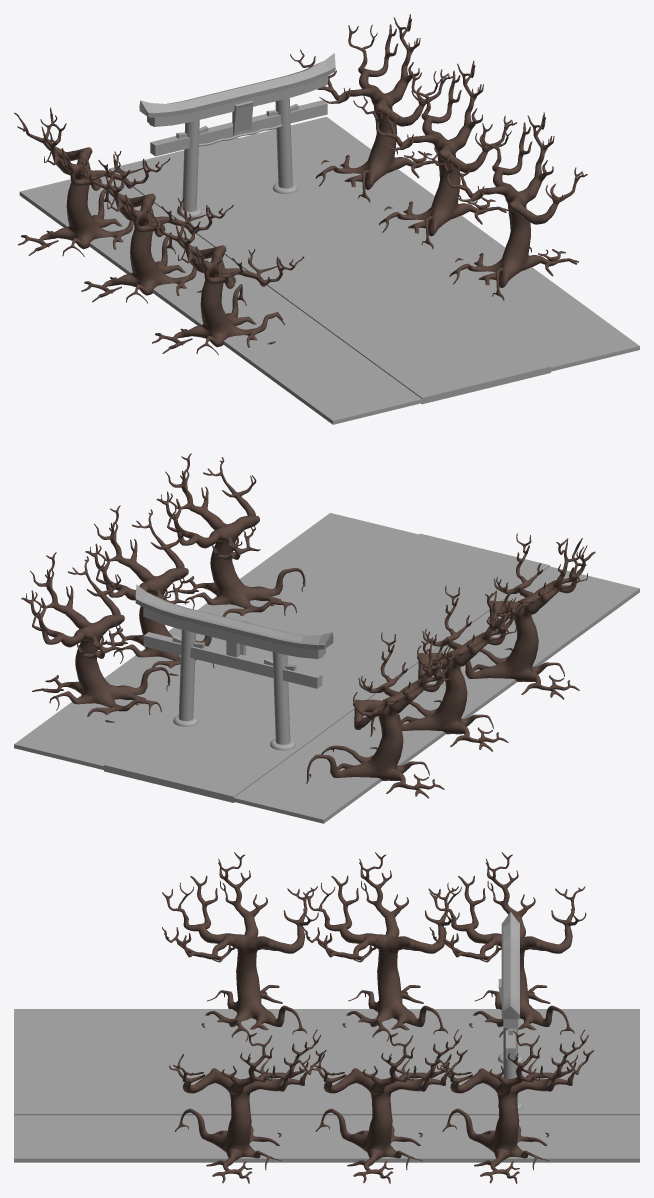
Rendered from Stage__01.fbx.
3 renders of one model, top to bottom at view 1: azimuth 30°, elevation 25°; view 2: azimuth 150°, elevation 25°; view 3: azimuth 270°, elevation 25°, orthographic.
Parts seen in each view (by area): view 1: b, LeaflessTree4, LeaflessTree2, LeaflessTree1, LeaflessTree5, LeaflessTree3, LeaflessTree:LeaflessTree, b2, pCube6, a1, a, pCube5; view 2: b, LeaflessTree1, LeaflessTree4, LeaflessTree:LeaflessTree, LeaflessTree5, LeaflessTree3, b2, LeaflessTree2, pCube6, a1, a; view 3: b, LeaflessTree5, LeaflessTree3, LeaflessTree4, LeaflessTree1, LeaflessTree2, LeaflessTree:LeaflessTree, b2.
Boxes of the visible parts, x1,y1,x2,y2 form: b: (19,117,639,424); LeaflessTree4: (424,112,587,300); LeaflessTree2: (353,60,517,248); LeaflessTree1: (290,14,452,202); LeaflessTree5: (148,205,304,355); LeaflessTree3: (77,154,233,303); LeaflessTree:LeaflessTree: (14,107,170,256); b2: (139,53,335,126); pCube6: (150,100,327,156); a1: (182,120,199,211); a: (275,98,292,188); pCube5: (233,101,253,135); b: (14,513,639,823); LeaflessTree1: (21,552,170,722); LeaflessTree4: (156,453,305,622); LeaflessTree:LeaflessTree: (306,632,460,798); LeaflessTree5: (441,533,595,699); LeaflessTree3: (370,585,524,751); b2: (135,584,333,658); LeaflessTree2: (85,505,214,675); pCube6: (143,632,322,688); a1: (272,652,290,744); a: (178,630,196,720); b: (14,1009,639,1162); LeaflessTree5: (162,852,318,1041); LeaflessTree3: (303,852,459,1041); LeaflessTree4: (169,1029,326,1183); LeaflessTree1: (437,1029,594,1183); LeaflessTree2: (310,1029,467,1183); LeaflessTree:LeaflessTree: (429,852,586,1037); b2: (501,912,519,1028).
Bounding box in the file's own units: 5781 × 2007 × 7724.
